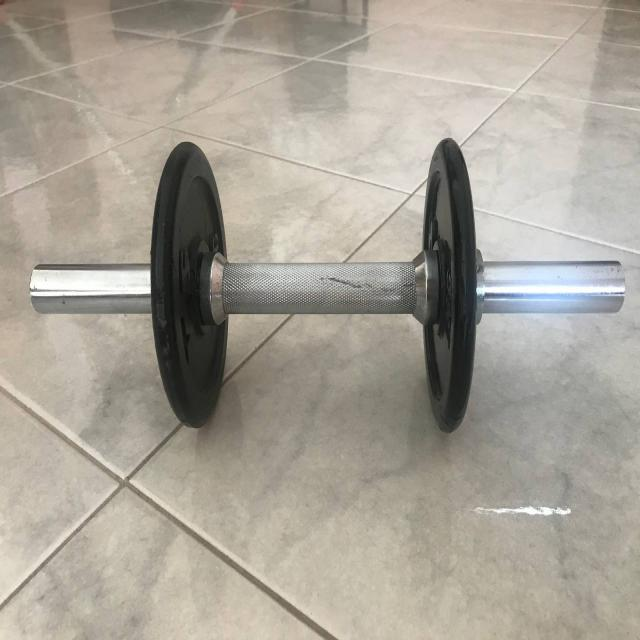Gym Weights: (23, 132, 627, 444)
